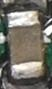Capacitor: (6, 11, 45, 80)
